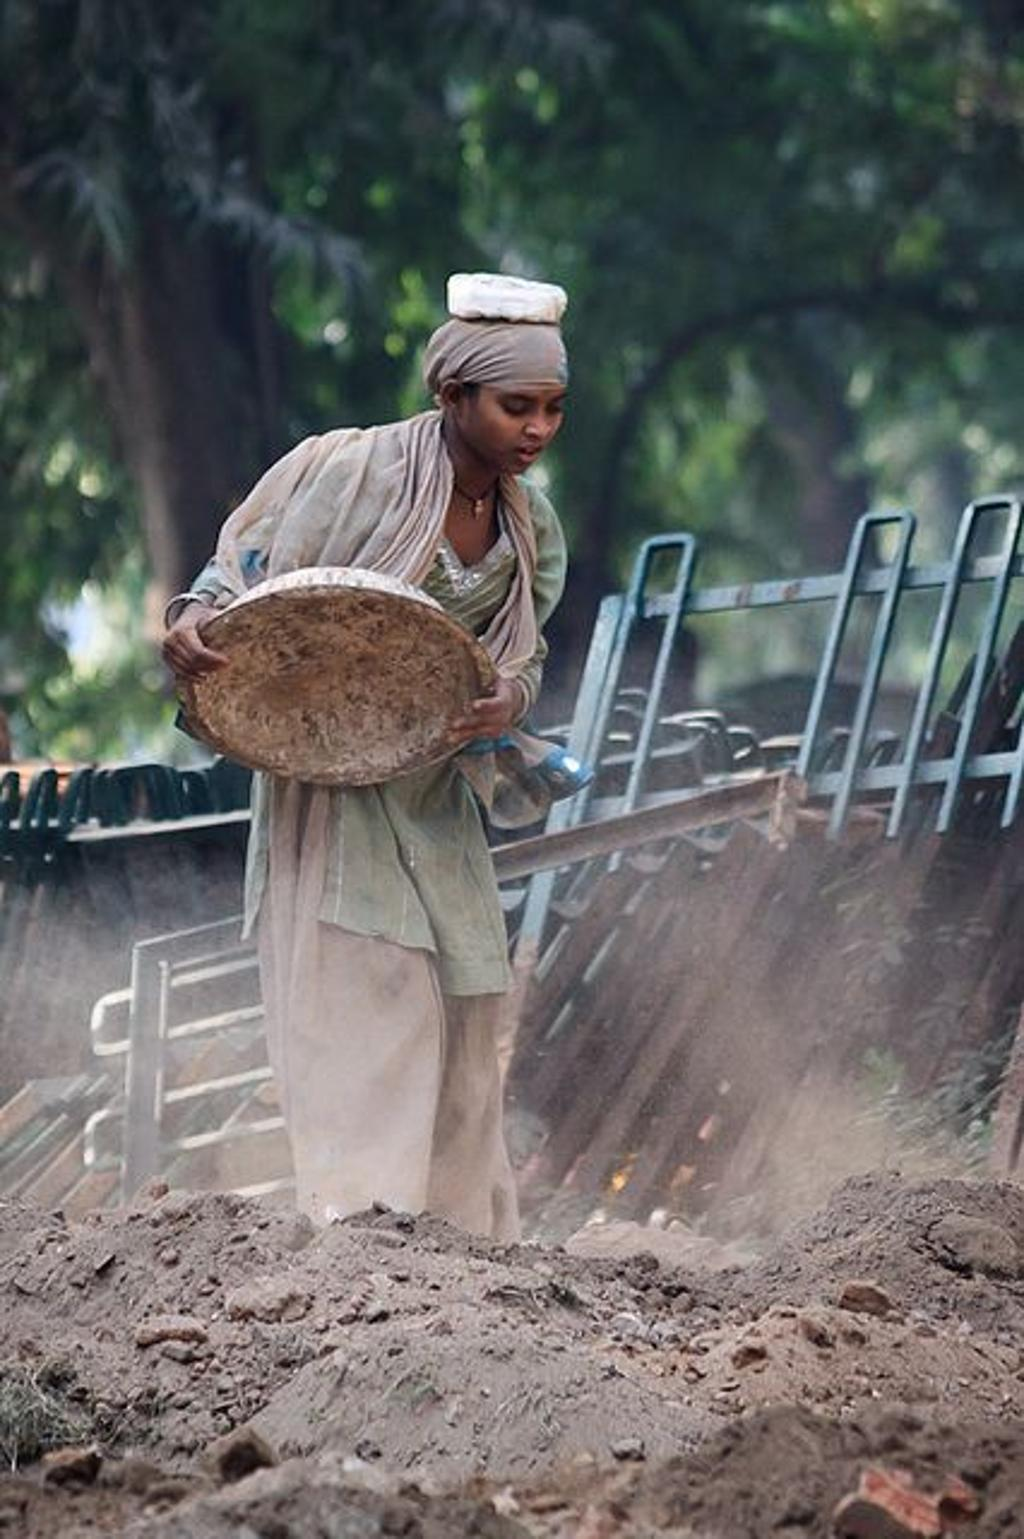face: (465, 333, 561, 471)
